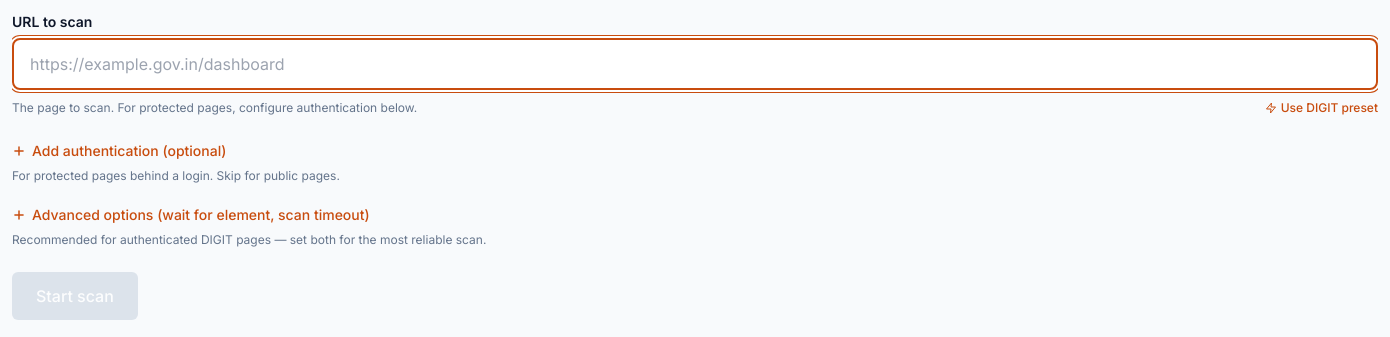
Scenario: <ScanForm /> › shows an inline URL error when the input is blurred with an invalid value
Type "bad" into the field labelled "URL to scan" at (695, 64), box [12,38,1378,90]
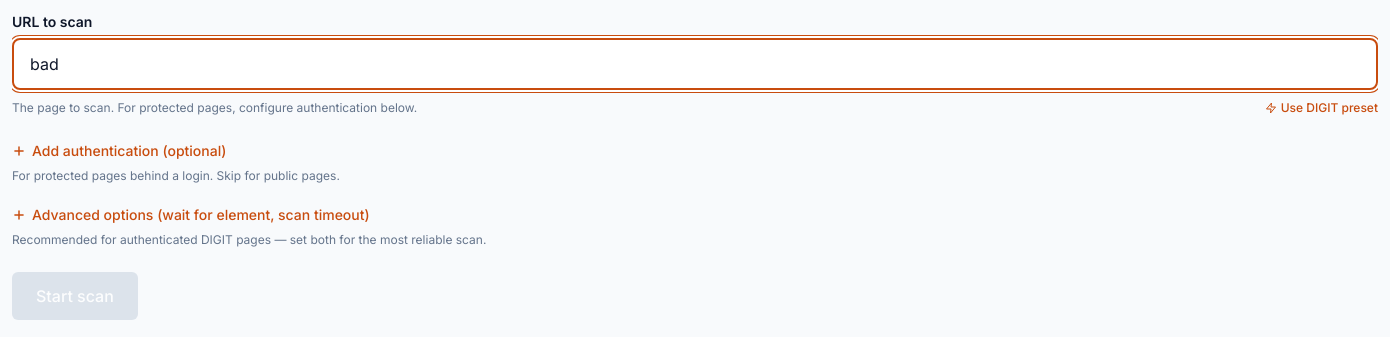
Leave the field labelled "URL to scan", box [12,38,1378,90]
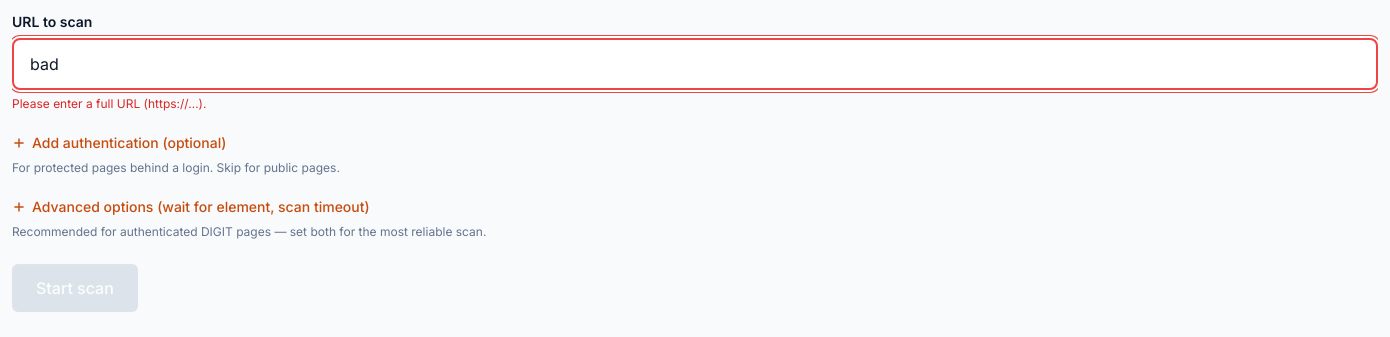
expect the text "Please enter a full URL (https://…)." is shown: met, box [12,96,206,111]
